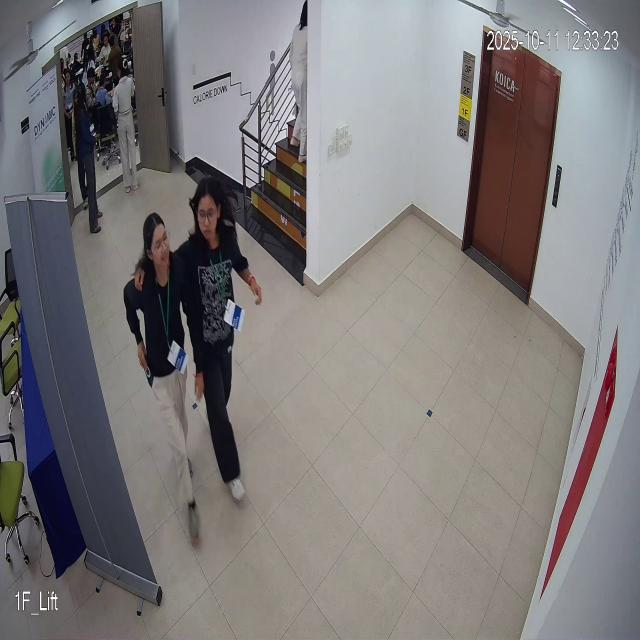face: (187, 166, 226, 243), (139, 203, 173, 279)
